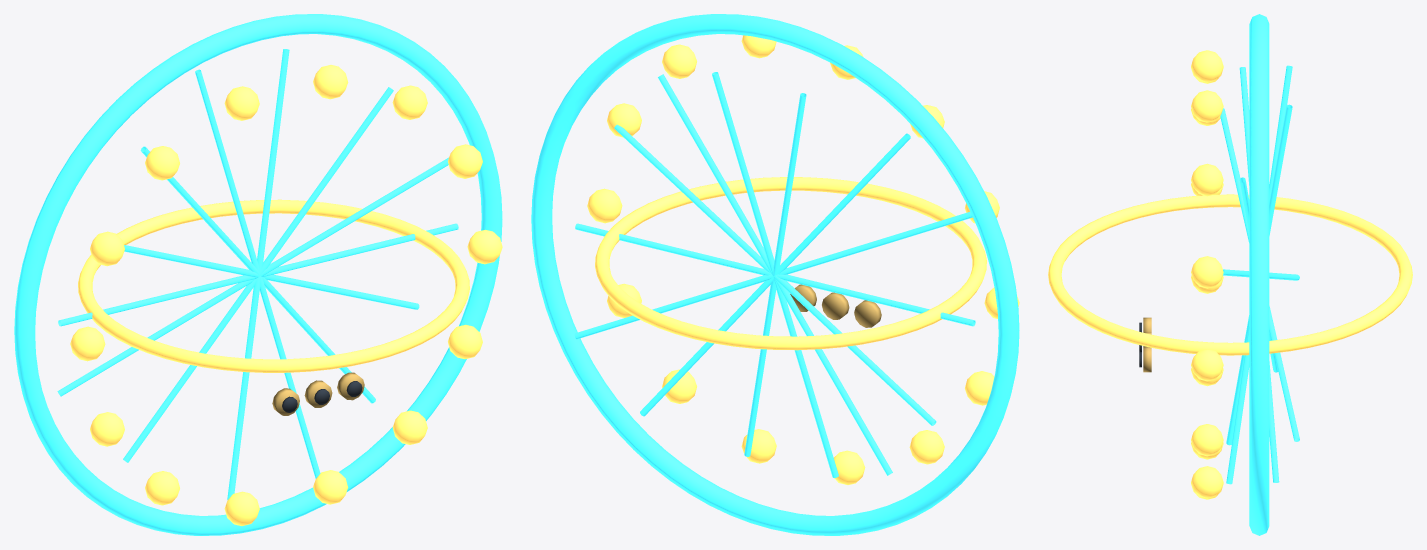
The model's file is 67_L89_ShieldCoverageDigitalTwin.fbx.
3 views of the same model, side by side, from view 1: azimuth 30°, elevation 25°; view 2: azimuth 150°, elevation 25°; view 3: azimuth 270°, elevation 25° (orthographic). The views are drawn at different scales.
Parts seen in each view (by area): view 1: L87_ShieldCoverageDigitalTwin_Part_0000, L87_ShieldCoverageDigitalTwin_Part_0001; view 2: L87_ShieldCoverageDigitalTwin_Part_0000, L87_ShieldCoverageDigitalTwin_Part_0001, L87_ShieldCoverageDigitalTwin_Part_0002, L87_ShieldCoverageDigitalTwin_Part_0004; view 3: L87_ShieldCoverageDigitalTwin_Part_0000, L87_ShieldCoverageDigitalTwin_Part_0001.
Part boxes in pixels (x1,y1,x2,y2): L87_ShieldCoverageDigitalTwin_Part_0000: [14, 14, 502, 535]; L87_ShieldCoverageDigitalTwin_Part_0001: [70, 65, 502, 525]; L87_ShieldCoverageDigitalTwin_Part_0000: [531, 14, 1019, 535]; L87_ShieldCoverageDigitalTwin_Part_0001: [587, 35, 1019, 484]; L87_ShieldCoverageDigitalTwin_Part_0002: [854, 300, 881, 327]; L87_ShieldCoverageDigitalTwin_Part_0004: [822, 292, 849, 319]; L87_ShieldCoverageDigitalTwin_Part_0000: [1220, 14, 1299, 535]; L87_ShieldCoverageDigitalTwin_Part_0001: [1048, 50, 1412, 499].
Size of the model in its own units: 2.7 by 2.7 by 1.89.
